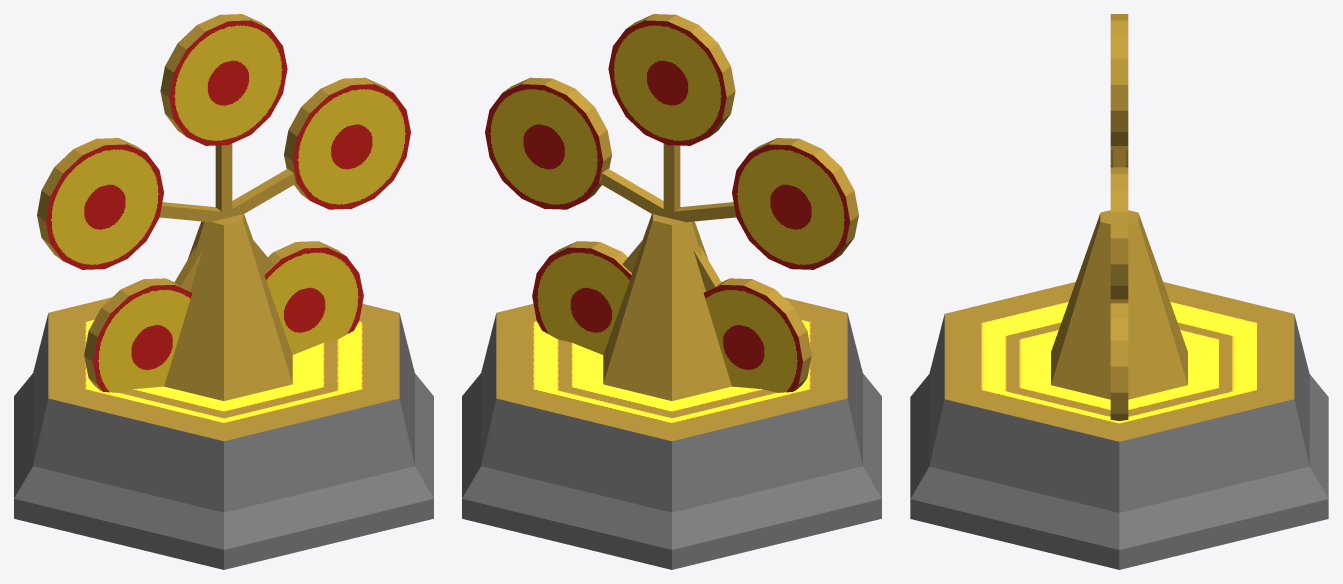
Rendered from grand_gold_multi_target.glb.
The picture shows the model from 3 angles, left to right: view 1: azimuth 30°, elevation 25°; view 2: azimuth 150°, elevation 25°; view 3: azimuth 270°, elevation 25°; orthographic projection.
Parts seen in each view (by area): view 1: grand_gold_multi_target; view 2: grand_gold_multi_target; view 3: grand_gold_multi_target.
Boxes of the visible parts, bbox=[...] form: grand_gold_multi_target: bbox=[14, 14, 433, 569]; grand_gold_multi_target: bbox=[462, 14, 881, 569]; grand_gold_multi_target: bbox=[910, 14, 1328, 569].
Size of the model in its own units: 3.34 by 3.42 by 2.89.
1 material, 1 textured.
